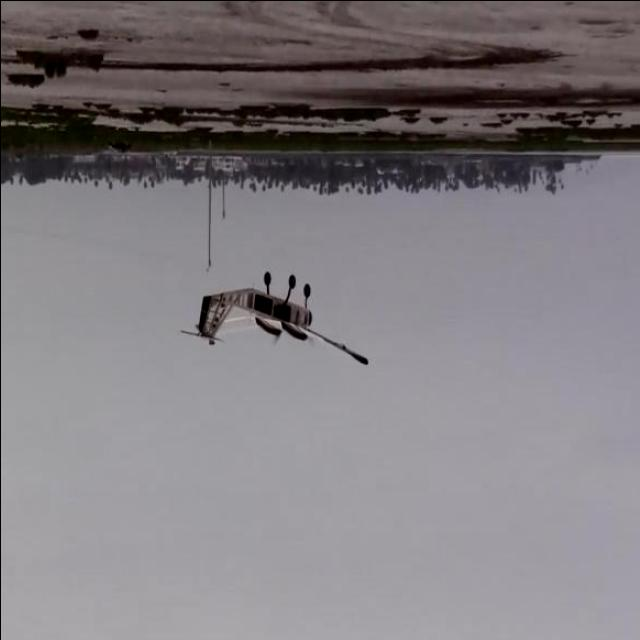plane: (178, 270, 368, 368)
